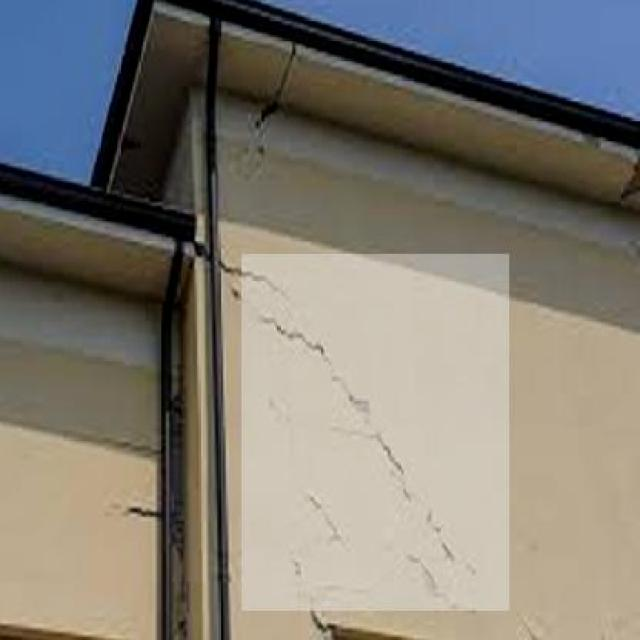Crack: (226, 256, 500, 605)
